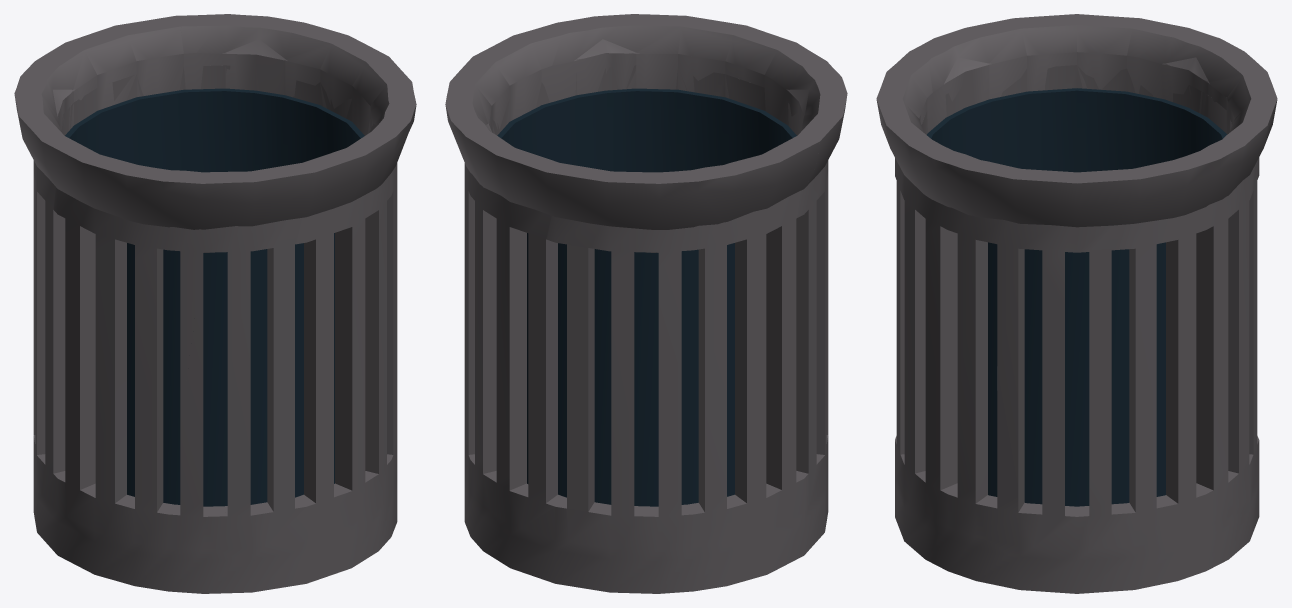
Rendered from PlatformBin.fbx.
3 views of the same model, side by side, from view 1: azimuth 30°, elevation 25°; view 2: azimuth 150°, elevation 25°; view 3: azimuth 270°, elevation 25° (orthographic).
Visible parts, largest first — view 1: bin; view 2: bin; view 3: bin.
Part boxes in pixels (x1,y1,x2,y2): bin: (14,14,416,593); bin: (445,14,847,593); bin: (876,14,1277,593).
Size of the model in its own units: 330 by 380 by 330.
